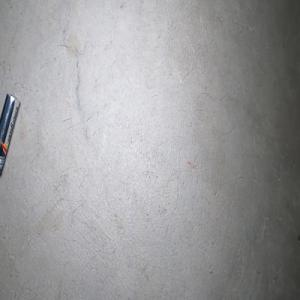Battery: (0, 92, 20, 176)
